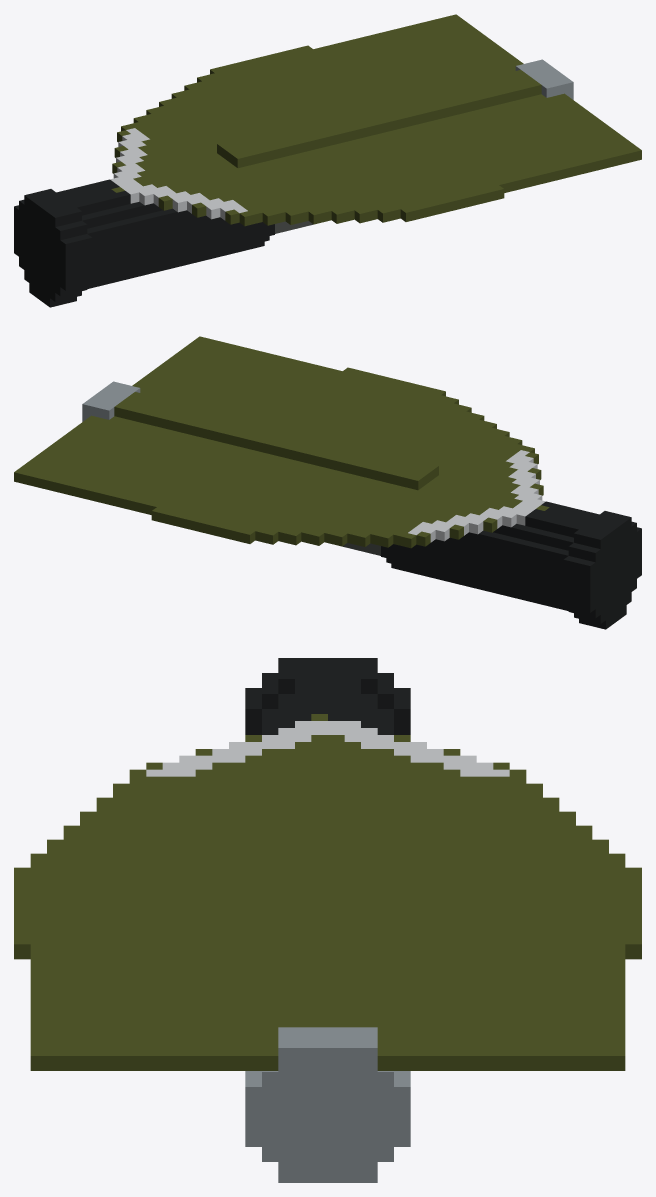
The model's file is e_tool.glb.
3 views of the same model, one above another, from view 1: azimuth 30°, elevation 25°; view 2: azimuth 150°, elevation 25°; view 3: azimuth 270°, elevation 25° (orthographic). The views are drawn at different scales.
Visible parts, largest first — view 1: e_tool:compound; view 2: e_tool:compound; view 3: e_tool:compound.
Part boxes in pixels (bbox=[...]): e_tool:compound: bbox=[14, 14, 641, 307]; e_tool:compound: bbox=[14, 336, 641, 629]; e_tool:compound: bbox=[14, 658, 641, 1182].
Bounding box in the file's own units: 0.232 × 0.044 × 0.152.
